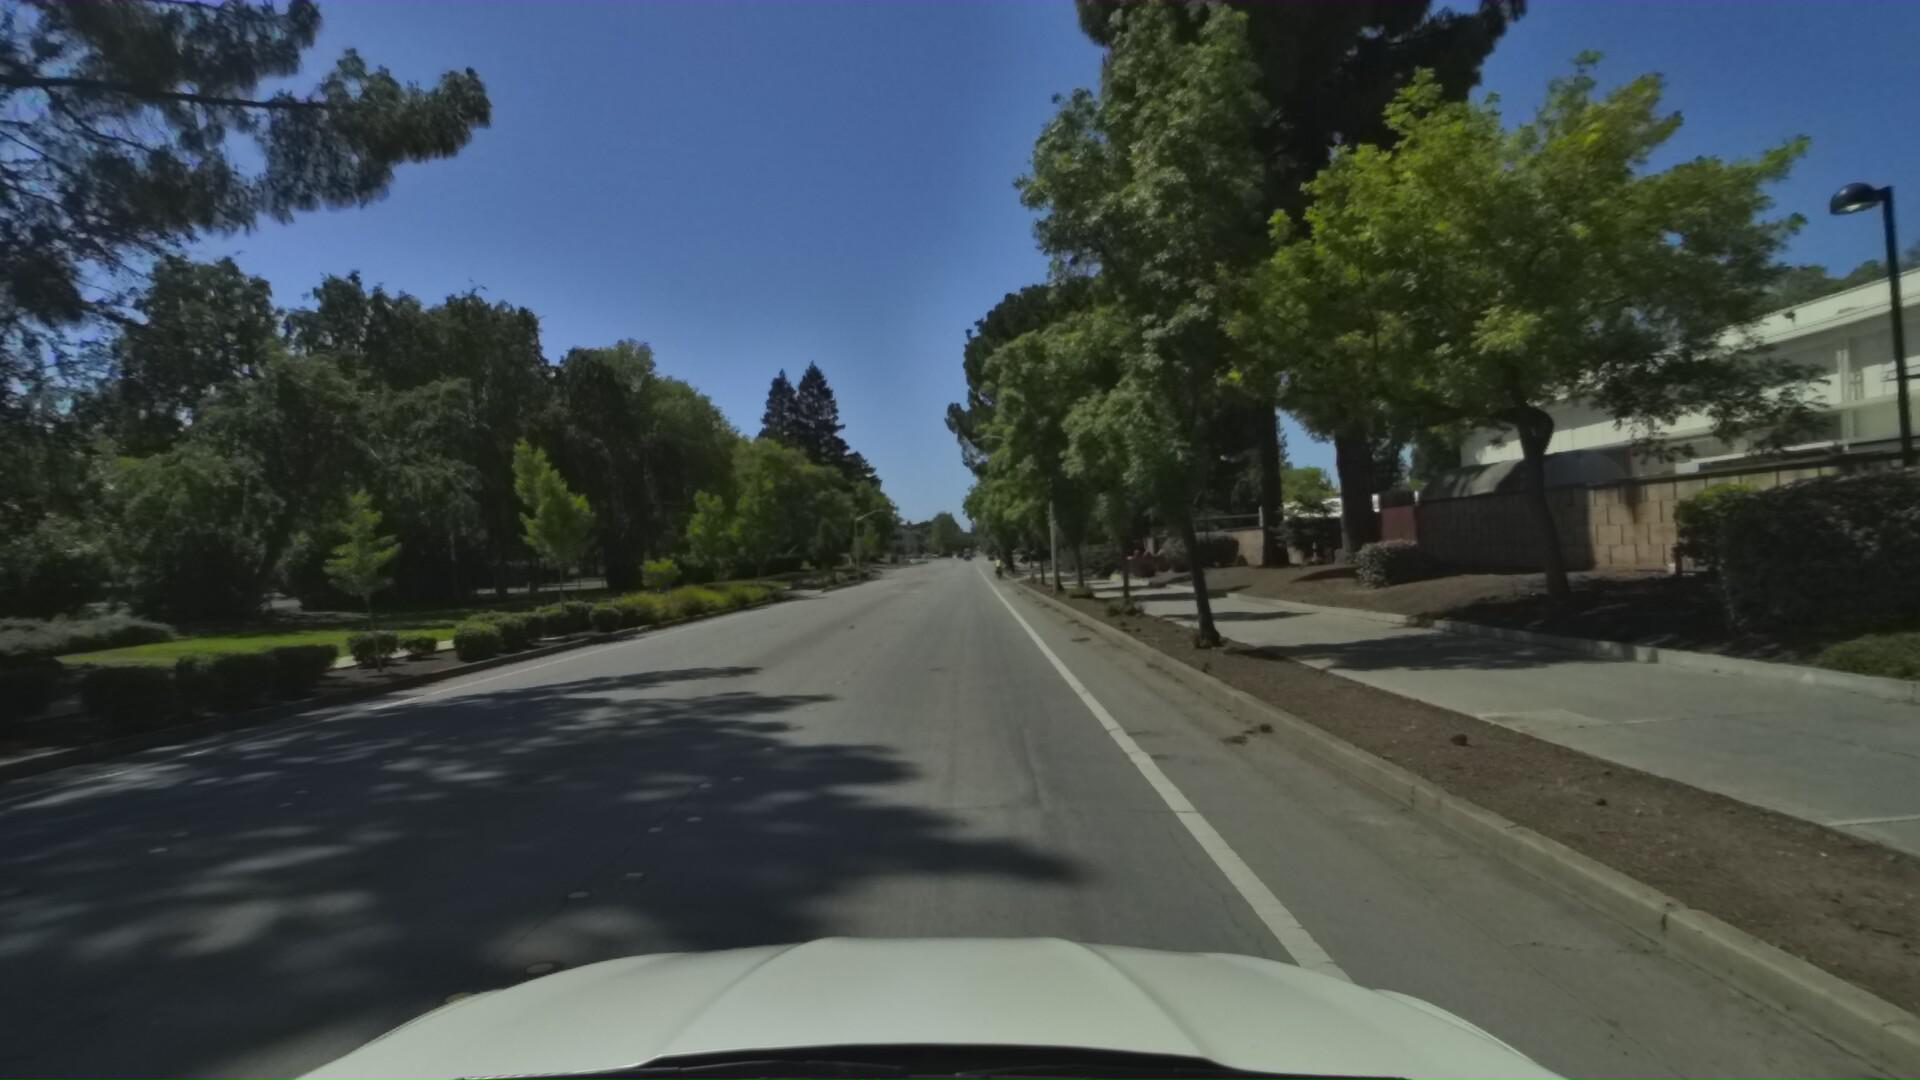bicycle: (992, 541, 1007, 568)
